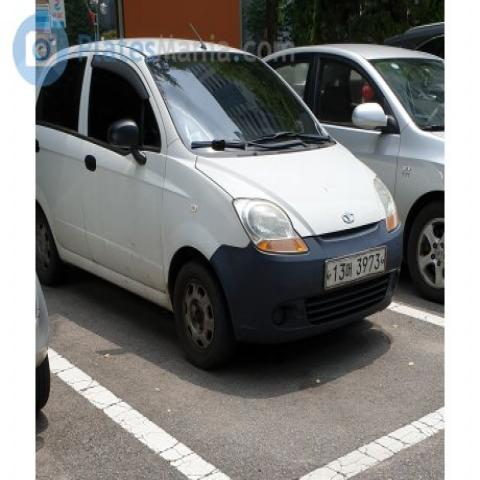LP: (314, 238, 392, 296)
